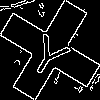Y: (25, 25, 77, 81)
